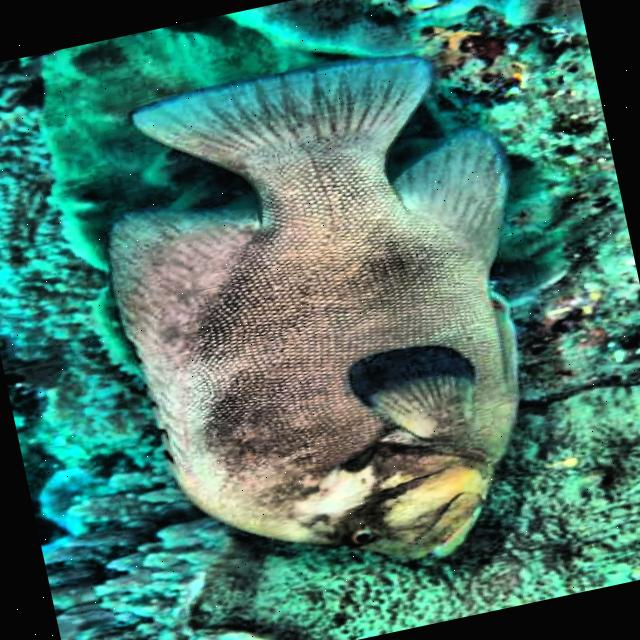fish: (79, 34, 584, 608)
